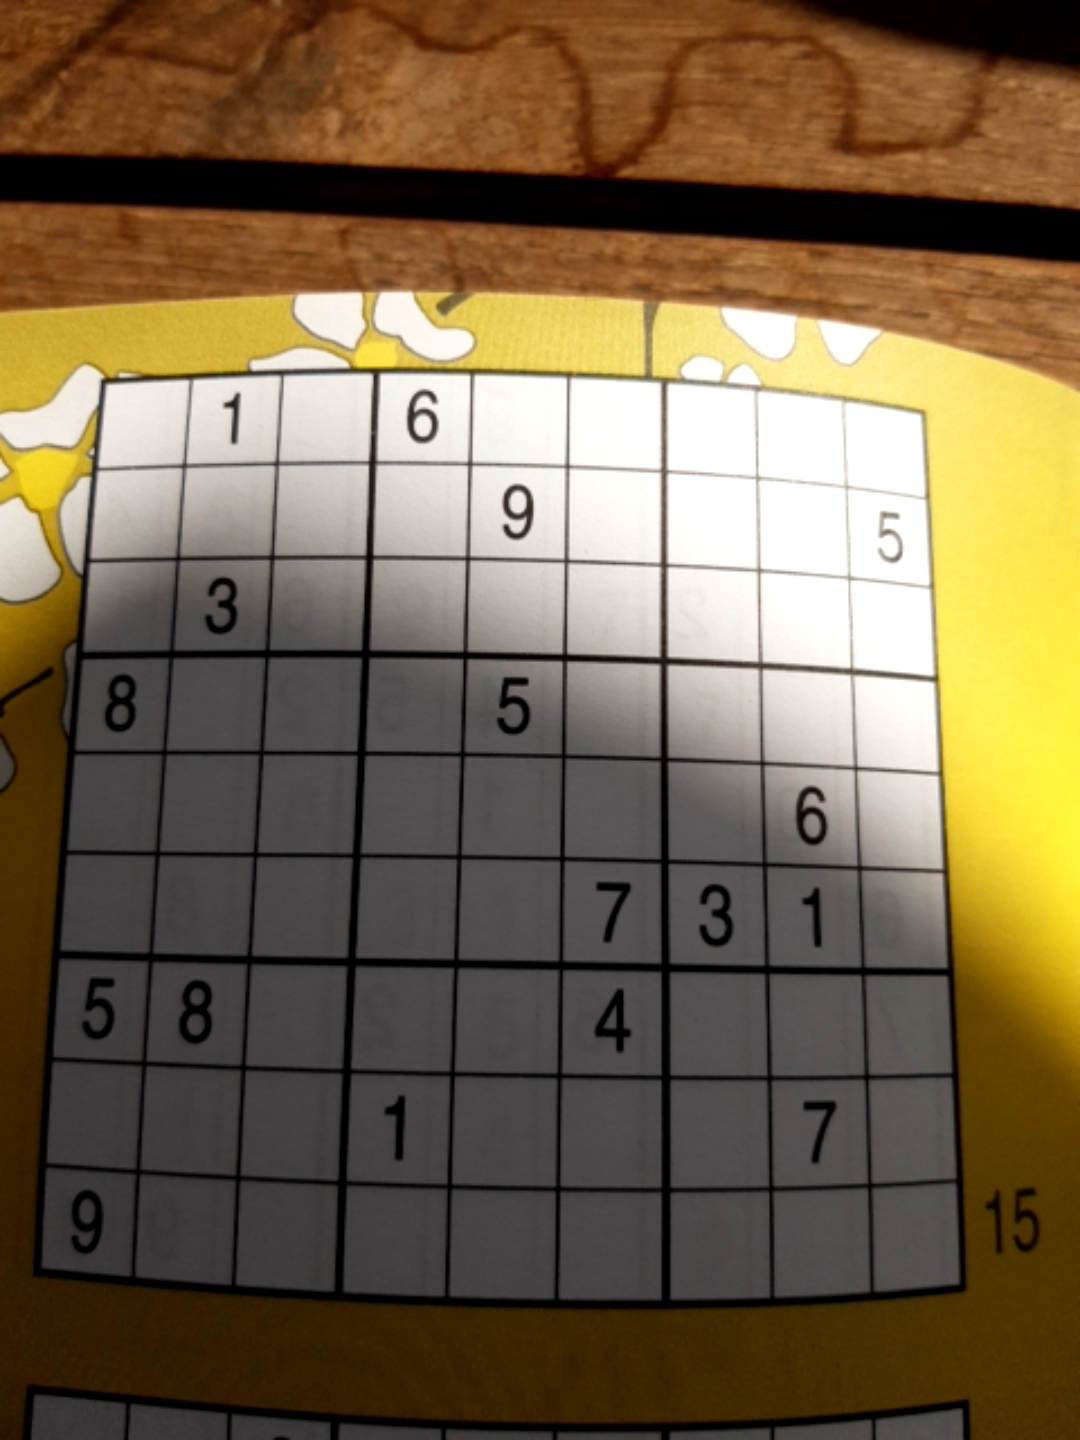sudoku: (36, 365, 970, 1300)
